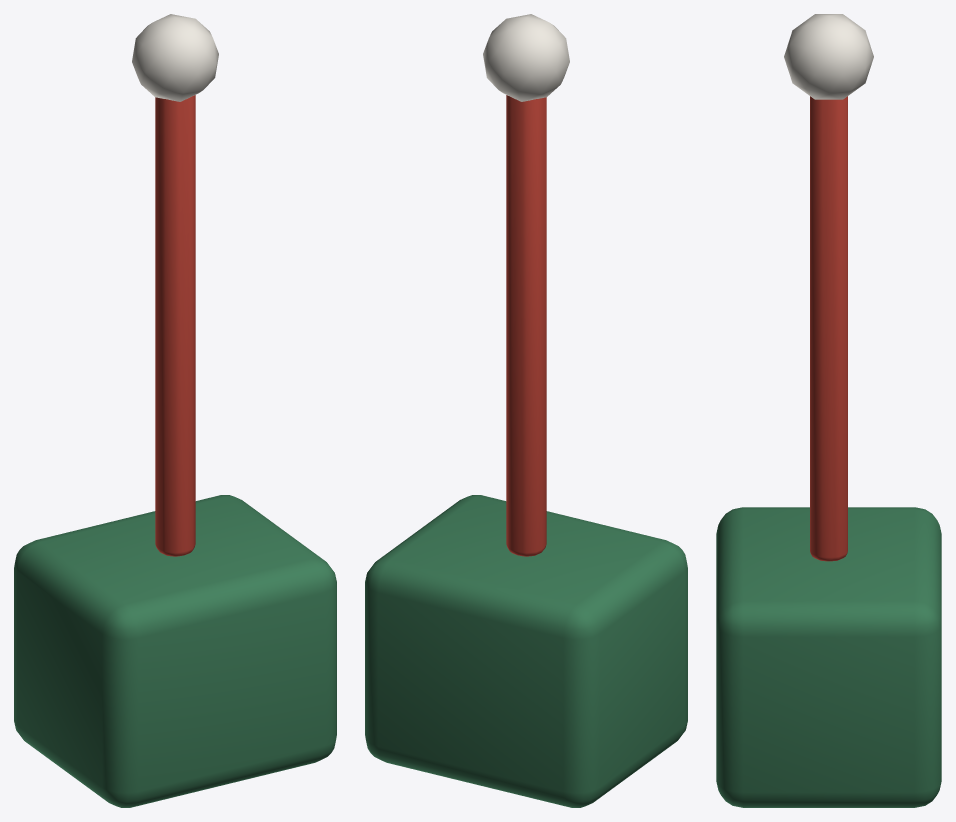
Rendered from alavanca.glb.
3 renders of one model, left to right at view 1: azimuth 30°, elevation 25°; view 2: azimuth 150°, elevation 25°; view 3: azimuth 270°, elevation 25°, orthographic.
Parts seen in each view (by area): view 1: Cube, Cylinder, Icosphere; view 2: Cube, Cylinder, Icosphere; view 3: Cube, Cylinder, Icosphere.
Boxes of the visible parts, x1,y1,x2,y2 form: Cube: [14, 495, 336, 807]; Cylinder: [155, 95, 195, 556]; Icosphere: [132, 14, 218, 101]; Cube: [365, 495, 687, 807]; Cylinder: [506, 95, 546, 556]; Icosphere: [483, 14, 569, 101]; Cube: [716, 507, 941, 807]; Cylinder: [810, 96, 847, 561]; Icosphere: [784, 14, 873, 99].
Size of the model in its own units: 0.6 by 1.82 by 0.5.
